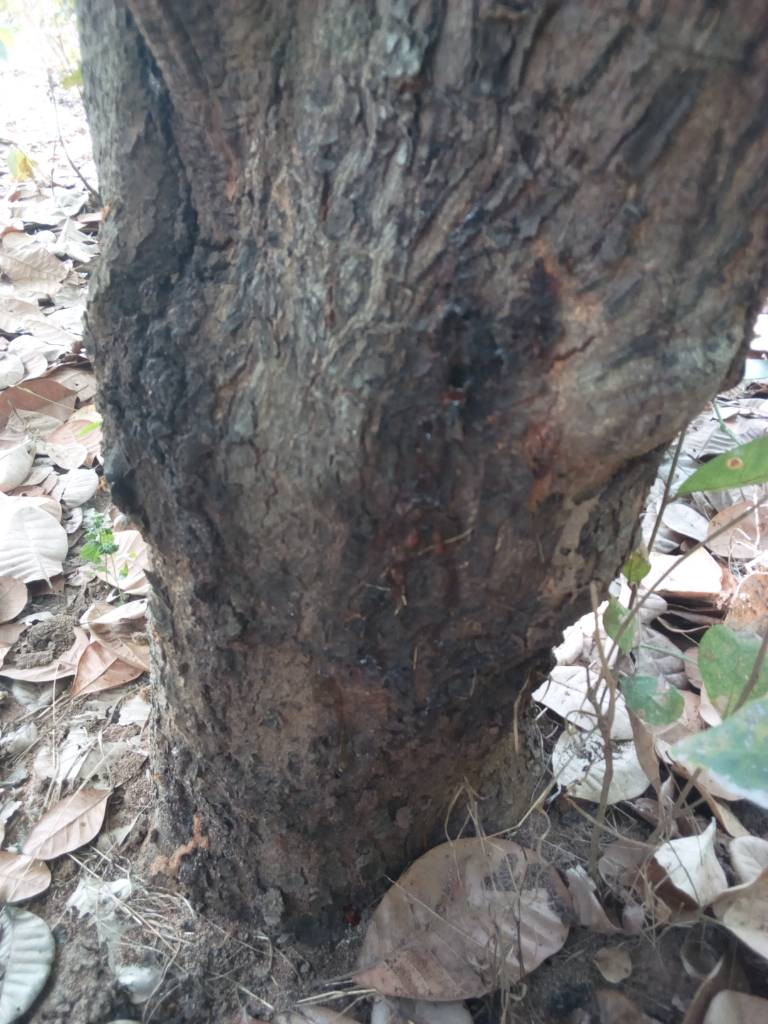Gommose: (349, 283, 572, 803)
